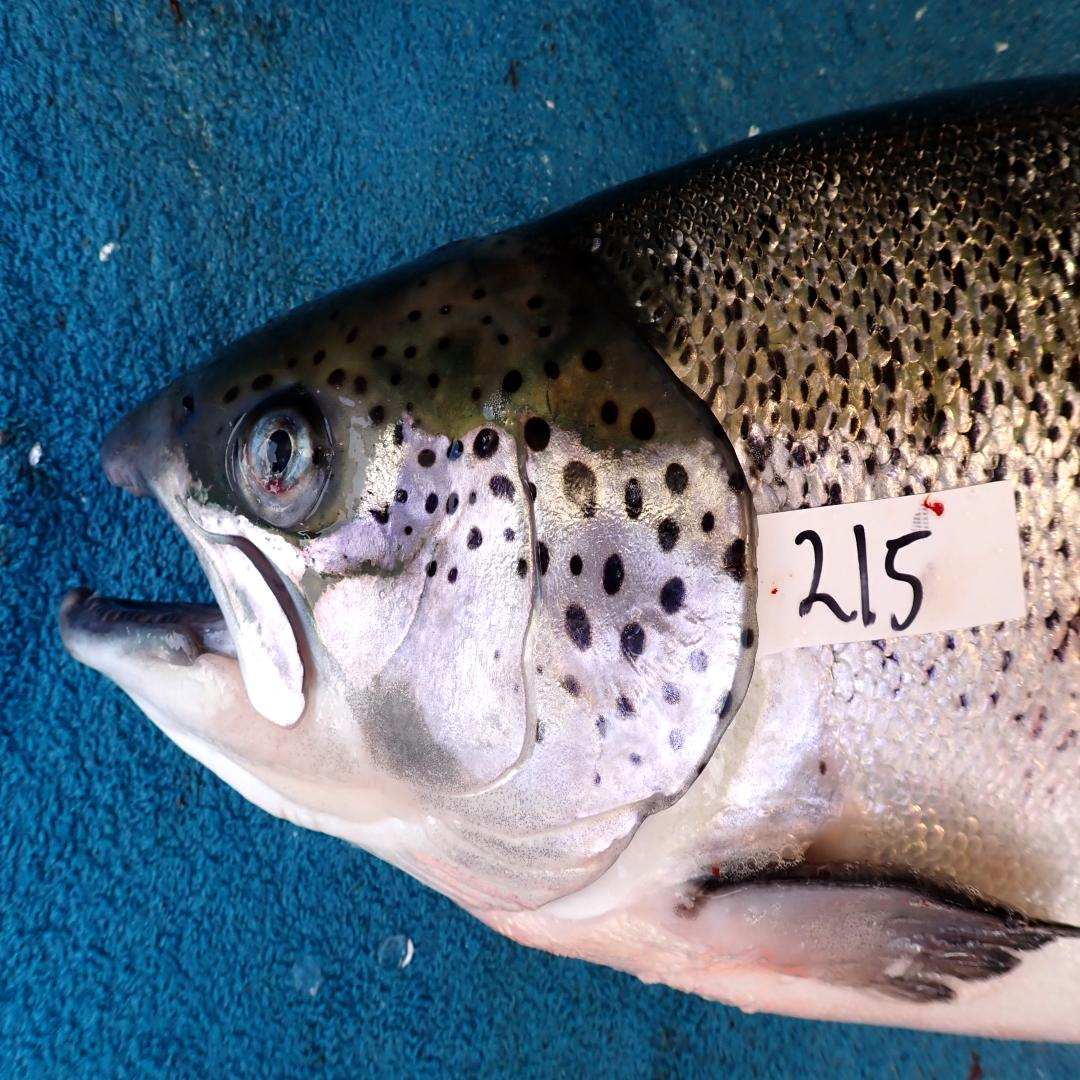roi: (304, 410, 759, 917)
